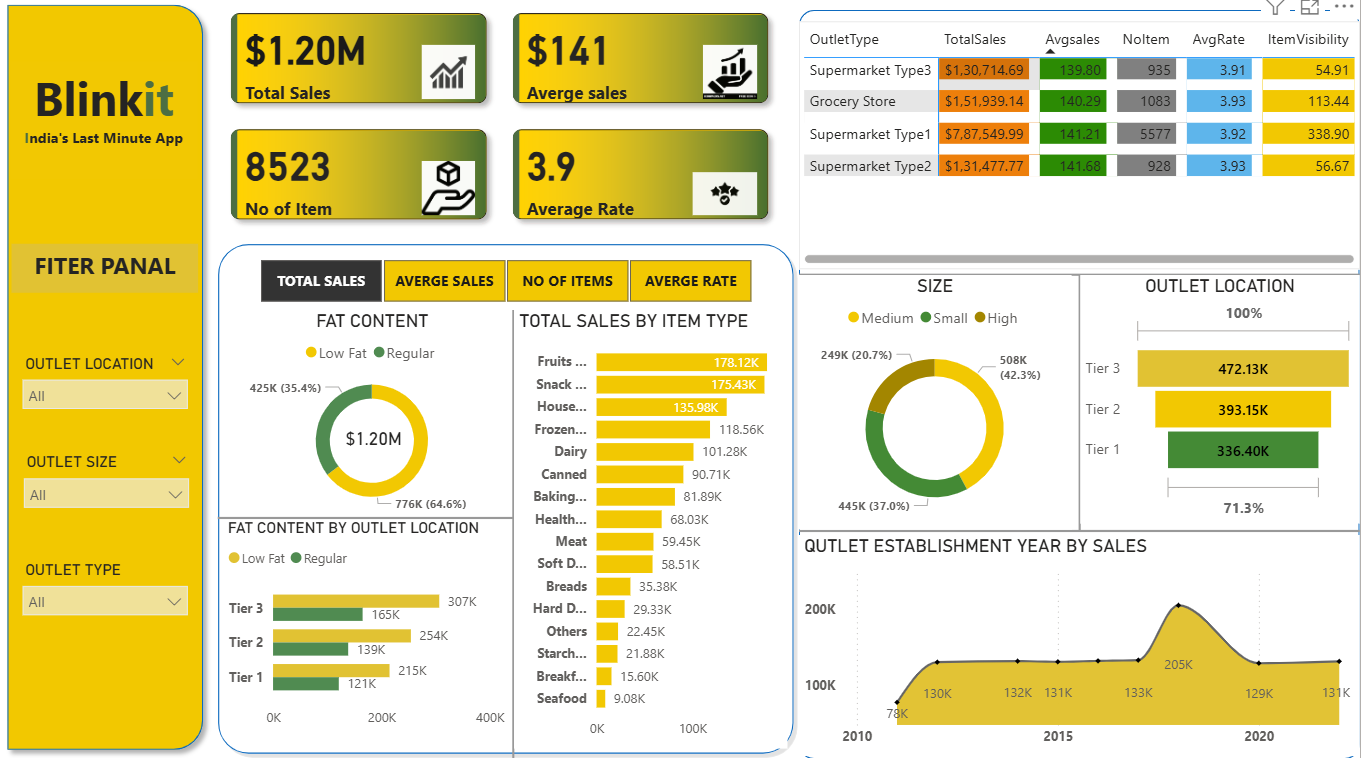

This screenshot's page, from the dashboard's own definition file:
{"tool":"powerbi","page":{"name":"Page 1","canvas":[1280,720],"ordinal":0},"visuals":[{"type":"shape","box":[12.5,9.7,200.3,711],"z":0},{"type":"textbox","box":[24.7,71.4,174.3,109.8],"z":1000},{"type":"textbox","box":[25,240.7,173.9,45.9],"z":2000},{"type":"cardVisual","fields":{"Data":["BlinkIT Grocery Data.Total Sales","BlinkIT Grocery Data.Averge sales","BlinkIT Grocery Data.No of item","BlinkIT Grocery Data.Average Rate"]},"box":[212.9,9.7,534.3,226.8],"z":3000},{"type":"shape","box":[212.9,236.5,545.4,484.2],"z":4000},{"type":"donutChart","title":"FAT CONTENT","fields":{"Y":["BlinkIT Grocery Data.Total Sales"],"Category":["BlinkIT Grocery Data.Item Fat Content"]},"box":[225.4,301.9,271.3,194.8],"z":5000},{"type":"slicer","fields":{"Values":["BlinkIT Grocery Data.Outlet Location Type"]},"box":[25,338.1,173.9,66.8],"z":6000},{"type":"slicer","fields":{"Values":["BlinkIT Grocery Data.Outlet Size"]},"box":[26.4,429.9,173.9,66.8],"z":7000},{"type":"slicer","fields":{"Values":["BlinkIT Grocery Data.Outlet Type"]},"box":[25,530.1,173.9,66.8],"z":8000},{"type":"card","fields":{"Values":["BlinkIT Grocery Data.Total Sales"]},"box":[331.1,404.9,62.6,36.2],"z":9000},{"type":"slicer","fields":{"Values":["matrix.matrix"]},"box":[231,249,506.4,52.9],"z":10000},{"type":"clusteredBarChart","title":"FAT CONTENT BY OUTLET LOCATION","fields":{"Y":["BlinkIT Grocery Data.Total Sales"],"Series":["BlinkIT Grocery Data.Item Fat Content"],"Category":["BlinkIT Grocery Data.Outlet Location Type"]},"box":[222.6,496.7,269.9,203.1],"z":11000},{"type":"shape","box":[217,489.7,275.5,12.5],"z":12000},{"type":"shape","box":[488.3,301.9,8.3,418.8],"z":13000},{"type":"shape","box":[758.3,23.7,521.7,697],"z":14000},{"type":"clusteredBarChart","title":"TOTAL SALES BY ITEM TYPE","fields":{"Y":["BlinkIT Grocery Data.Total Sales"],"Category":["BlinkIT Grocery Data.Item Type"]},"box":[492.5,301.9,254.6,407.7],"z":15000},{"type":"stackedAreaChart","title":"QUTLET ESTABLISHMENT YEAR BY SALES","fields":{"Category":["BlinkIT Grocery Data.Outlet Establishment Year"],"Y":["BlinkIT Grocery Data.Total Sales"]},"box":[758.3,512,521.7,205.9],"z":16000},{"type":"shape","box":[1011.5,269.9,15.3,237.9],"z":17000},{"type":"shape","box":[758.3,502.3,521.7,11.1],"z":18000},{"type":"shape","box":[758.3,264.3,521.7,11.1],"z":19000},{"type":"donutChart","title":"SIZE ","fields":{"Y":["BlinkIT Grocery Data.Total Sales"],"Category":["BlinkIT Grocery Data.Outlet Size"]},"box":[758.3,269.9,253.2,236.5],"z":20000},{"type":"funnel","title":"OUTLET LOCATION","fields":{"Y":["BlinkIT Grocery Data.Total Sales"],"Category":["BlinkIT Grocery Data.Outlet Location Type"]},"box":[1019.8,269.9,260.2,231],"z":21000},{"type":"pivotTable","fields":{"Rows":["BlinkIT Grocery Data.Outlet Type"],"Values":["BlinkIT Grocery Data.Total Sales","BlinkIT Grocery Data.Averge sales","BlinkIT Grocery Data.No of Item","BlinkIT Grocery Data.Average Rate","Sum(BlinkIT Grocery Data.Item Visibility)"]},"box":[758.3,33.4,521.7,231],"z":22000}]}

Visuals, with their boxes in screenshot pixels (x1, y1, x2, y2), scaled from the page's 1280x720 canvas onto the 1365x758 screenshot:
shape: rect(13, 10, 227, 757)
textbox: rect(26, 75, 212, 191)
textbox: rect(27, 253, 212, 302)
cardVisual - BlinkIT Grocery Data.Total Sales x BlinkIT Grocery Data.Averge sales: rect(227, 10, 797, 249)
shape: rect(227, 249, 809, 757)
"FAT CONTENT" donutChart: rect(240, 318, 530, 523)
slicer - BlinkIT Grocery Data.Outlet Location Type: rect(27, 356, 212, 426)
slicer - BlinkIT Grocery Data.Outlet Size: rect(28, 453, 214, 523)
slicer - BlinkIT Grocery Data.Outlet Type: rect(27, 558, 212, 628)
card - BlinkIT Grocery Data.Total Sales: rect(353, 426, 420, 464)
slicer - matrix.matrix: rect(246, 262, 786, 318)
"FAT CONTENT BY OUTLET LOCATION" clusteredBarChart: rect(237, 523, 525, 737)
shape: rect(231, 516, 525, 529)
shape: rect(521, 318, 530, 757)
shape: rect(809, 25, 1364, 757)
"TOTAL SALES BY ITEM TYPE" clusteredBarChart: rect(525, 318, 797, 747)
"QUTLET ESTABLISHMENT YEAR BY SALES" stackedAreaChart: rect(809, 539, 1364, 756)
shape: rect(1079, 284, 1095, 535)
shape: rect(809, 529, 1364, 540)
shape: rect(809, 278, 1364, 290)
"SIZE " donutChart: rect(809, 284, 1079, 533)
"OUTLET LOCATION" funnel: rect(1088, 284, 1364, 527)
pivotTable - BlinkIT Grocery Data.Outlet Type x BlinkIT Grocery Data.Total Sales: rect(809, 35, 1364, 278)
